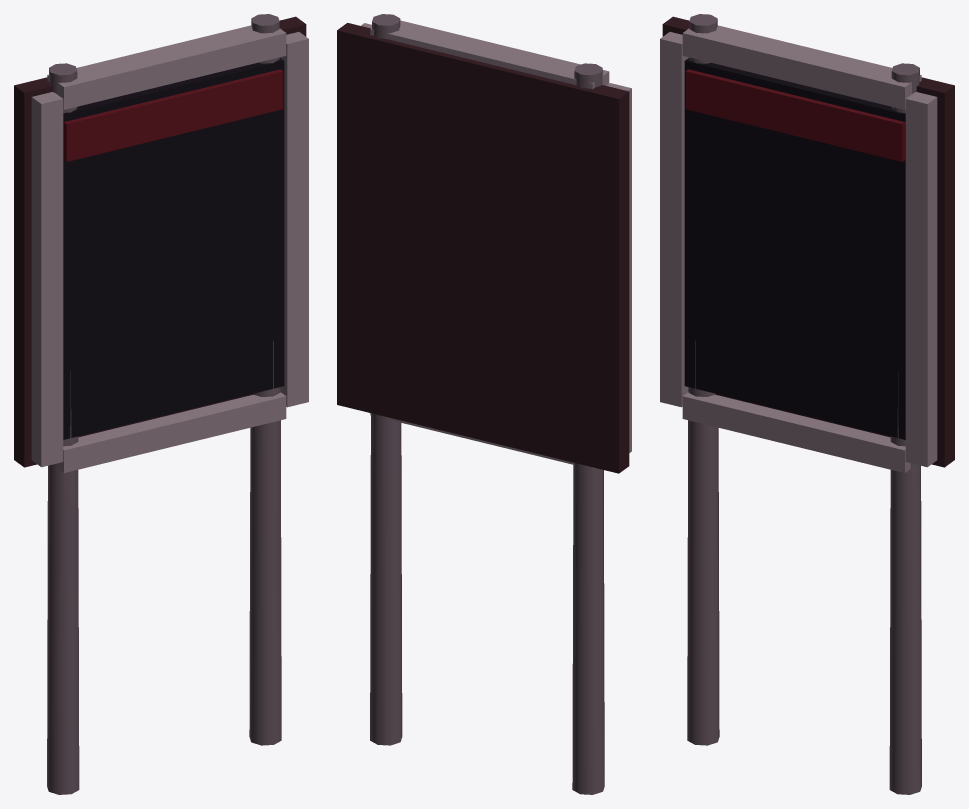
File: SM_TimetableCase_01.obj
3 views of the same model, side by side, from view 1: azimuth 30°, elevation 25°; view 2: azimuth 150°, elevation 25°; view 3: azimuth 330°, elevation 25° (orthographic).
Visible parts, largest first — view 1: case_glazing, case_frame_l, post_l, post_r, case_frame_r, header_strip, case_frame_t, case_back, case_frame_b; view 2: case_back, post_l, post_r, case_frame_t, case_frame_l, case_frame_b; view 3: case_glazing, case_frame_r, post_r, post_l, case_frame_l, header_strip, case_frame_t, case_back, case_frame_b.
Boxes of the visible parts, x1,y1,x2,y2 form: case_glazing: (63, 58, 284, 439); case_frame_l: (31, 92, 63, 467); post_l: (47, 63, 79, 794); post_r: (249, 14, 281, 745); case_frame_r: (280, 32, 308, 407); header_strip: (63, 69, 283, 161); case_frame_t: (47, 25, 286, 109); case_back: (14, 16, 306, 467); case_frame_b: (58, 392, 286, 472); case_back: (337, 23, 629, 473); post_l: (572, 63, 604, 794); post_r: (370, 14, 402, 745); case_frame_t: (370, 20, 609, 89); case_frame_l: (606, 83, 631, 452); case_frame_b: (370, 413, 593, 469); case_glazing: (684, 58, 905, 439); case_frame_r: (905, 92, 937, 467); post_r: (889, 63, 921, 794); post_l: (687, 14, 719, 745); case_frame_l: (660, 32, 688, 407); header_strip: (685, 69, 905, 161); case_frame_t: (682, 25, 921, 109); case_back: (662, 16, 954, 467); case_frame_b: (682, 392, 910, 472).
Size of the model in its own units: 0.78 by 1.9 by 0.097.
